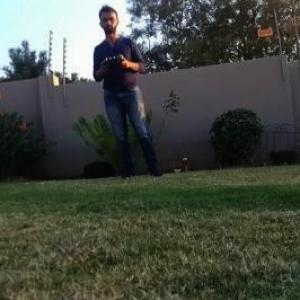follow: (89, 0, 172, 184)
